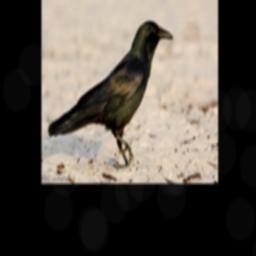Crow: (47, 19, 175, 167)
